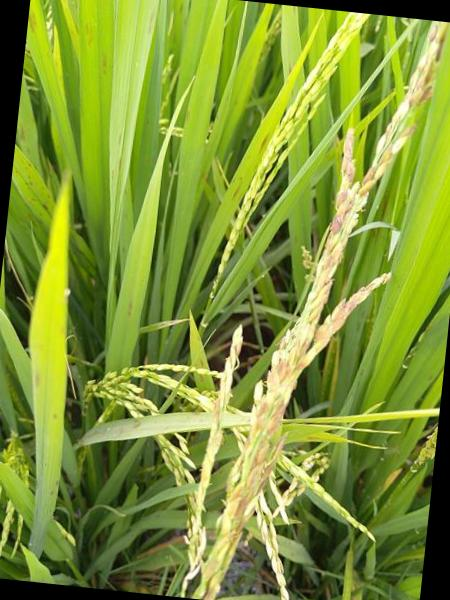Panicle Blight: (201, 107, 416, 600)
